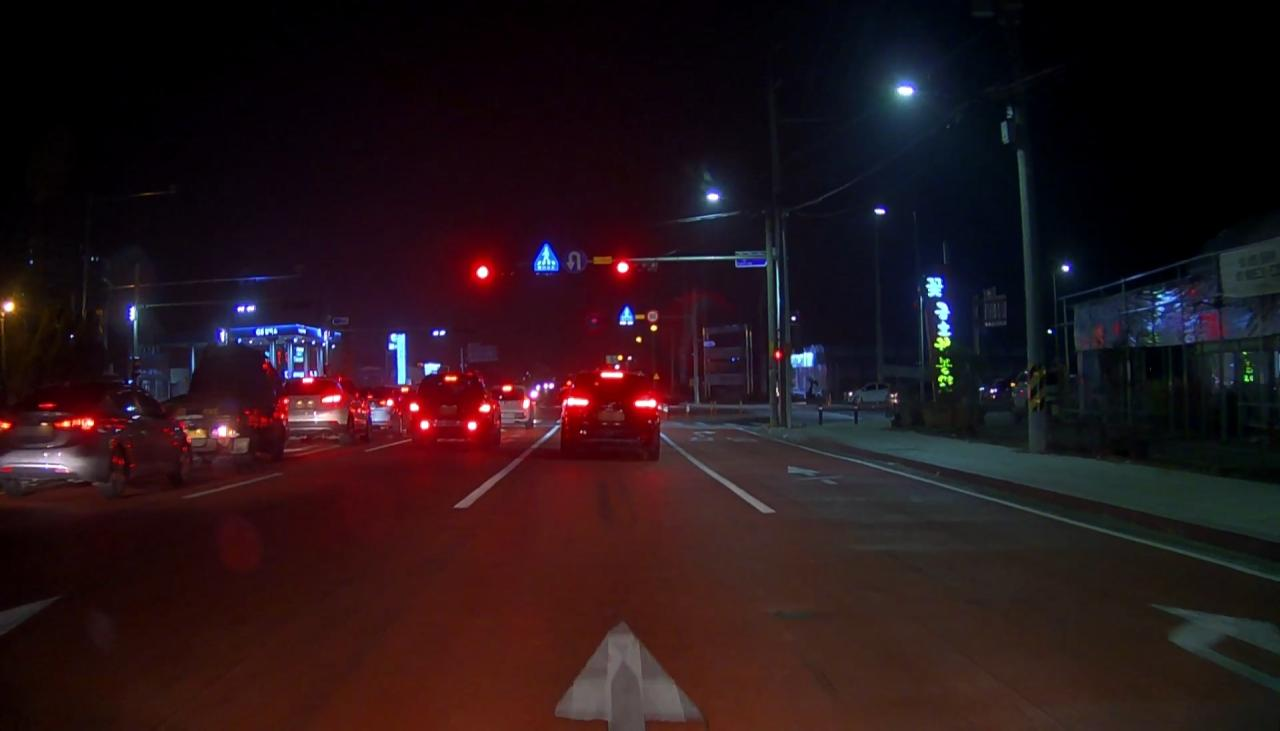Red Light: (614, 260, 631, 276), (476, 264, 490, 281)
